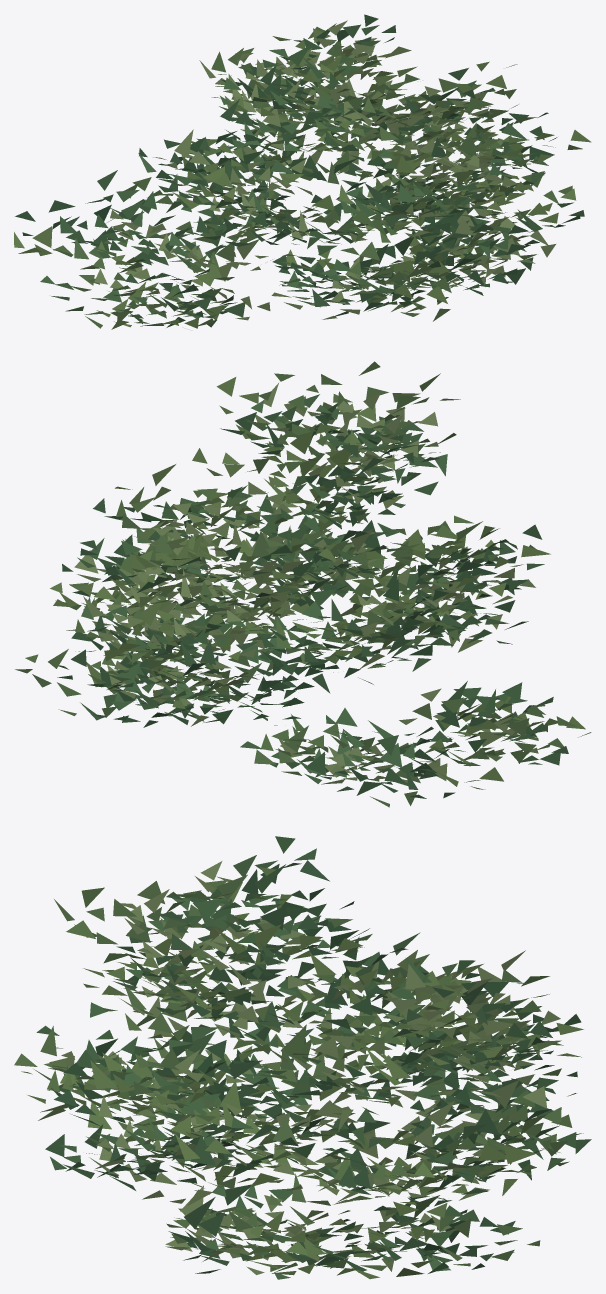
The model's file is karatsu-tree-crowns.glb.
3 renders of one model, top to bottom at view 1: azimuth 30°, elevation 25°; view 2: azimuth 150°, elevation 25°; view 3: azimuth 270°, elevation 25°, orthographic. The views are drawn at different scales.
Parts seen in each view (by area): view 1: Distant tree crown 1, Distant tree crown 2, Distant tree crown 0; view 2: Distant tree crown 1, Distant tree crown 0, Distant tree crown 2; view 3: Distant tree crown 2, Distant tree crown 1, Distant tree crown 0.
Part boxes in pixels (left/top/right/bottom): Distant tree crown 1: left=14, top=20, right=591, bottom=328; Distant tree crown 2: left=67, top=23, right=580, bottom=329; Distant tree crown 0: left=85, top=14, right=558, bottom=321; Distant tree crown 1: left=15, top=361, right=591, bottom=807; Distant tree crown 0: left=53, top=373, right=543, bottom=775; Distant tree crown 2: left=50, top=411, right=585, bottom=792; Distant tree crown 2: left=14, top=836, right=577, bottom=1272; Distant tree crown 1: left=27, top=864, right=581, bottom=1275; Distant tree crown 0: left=21, top=881, right=591, bottom=1279.
Bounding box in the file's own units: 7.62 × 3.94 × 6.25.
